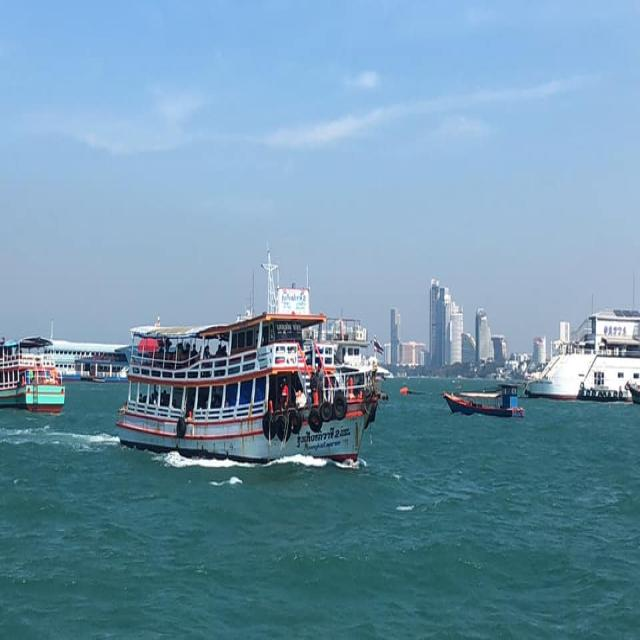fishing boat: (434, 381, 521, 420)
houseboat: (531, 300, 640, 413)
passenger ship: (108, 278, 382, 467), (0, 329, 74, 416)
